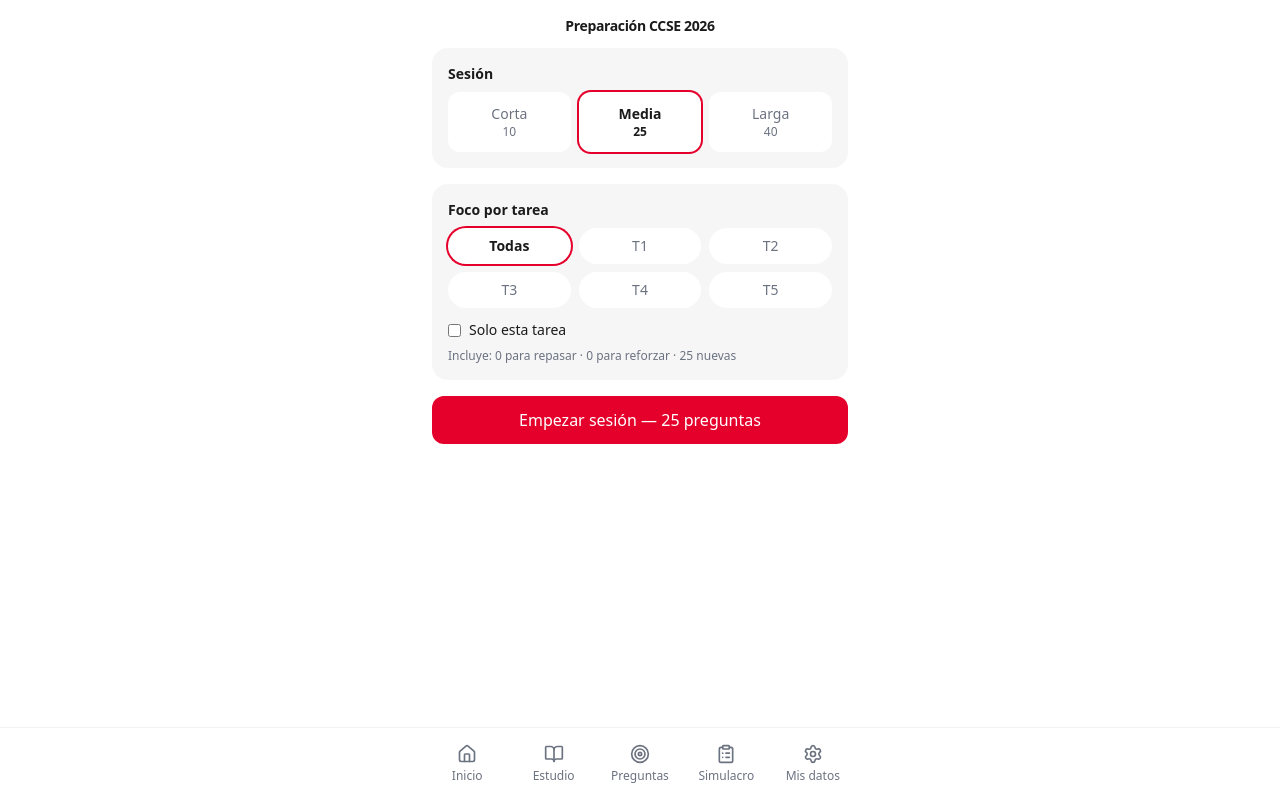
Test: UI: study flow › can start a short session and answer one question
Step 1. Click the text "Corta" → x=509, y=114, box 491,104 -> 527,123
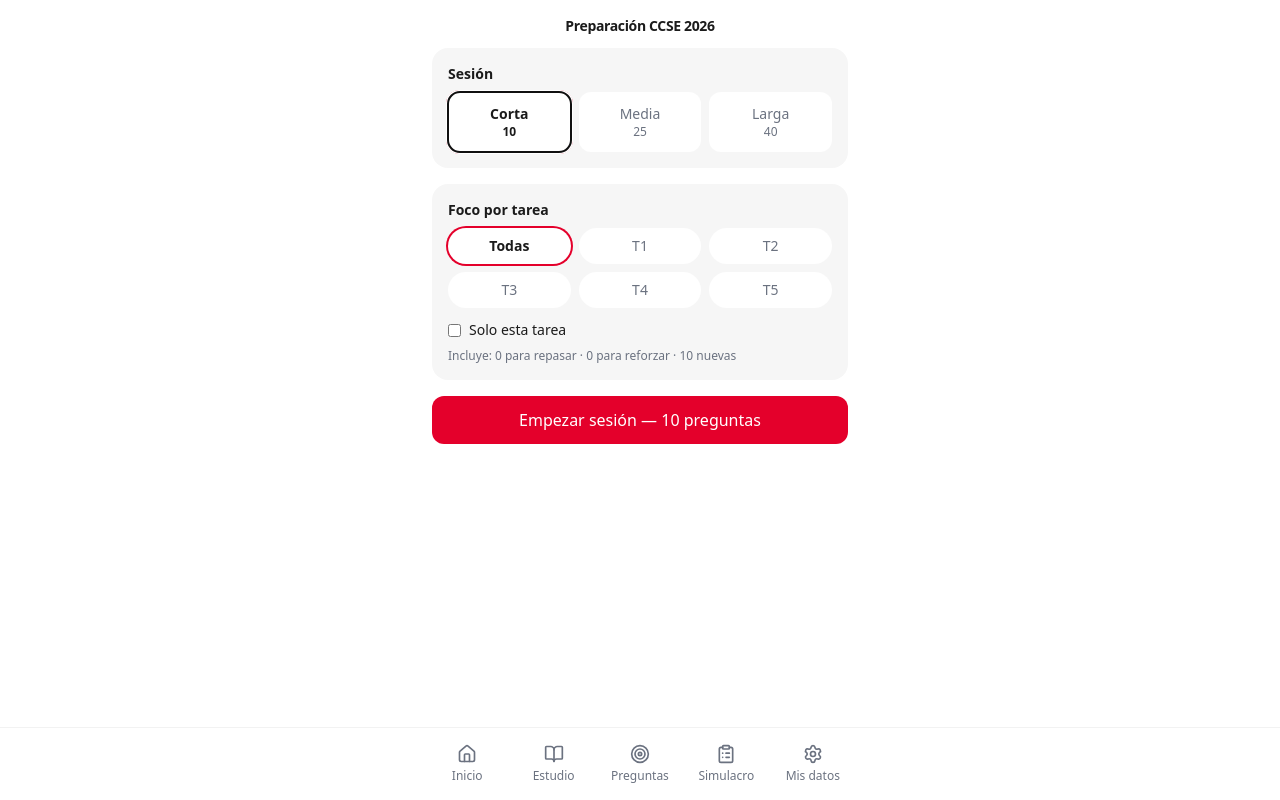
Step 2. Click the button "Empezar sesión — 10 preguntas" → x=640, y=420, box 432,396 -> 848,444
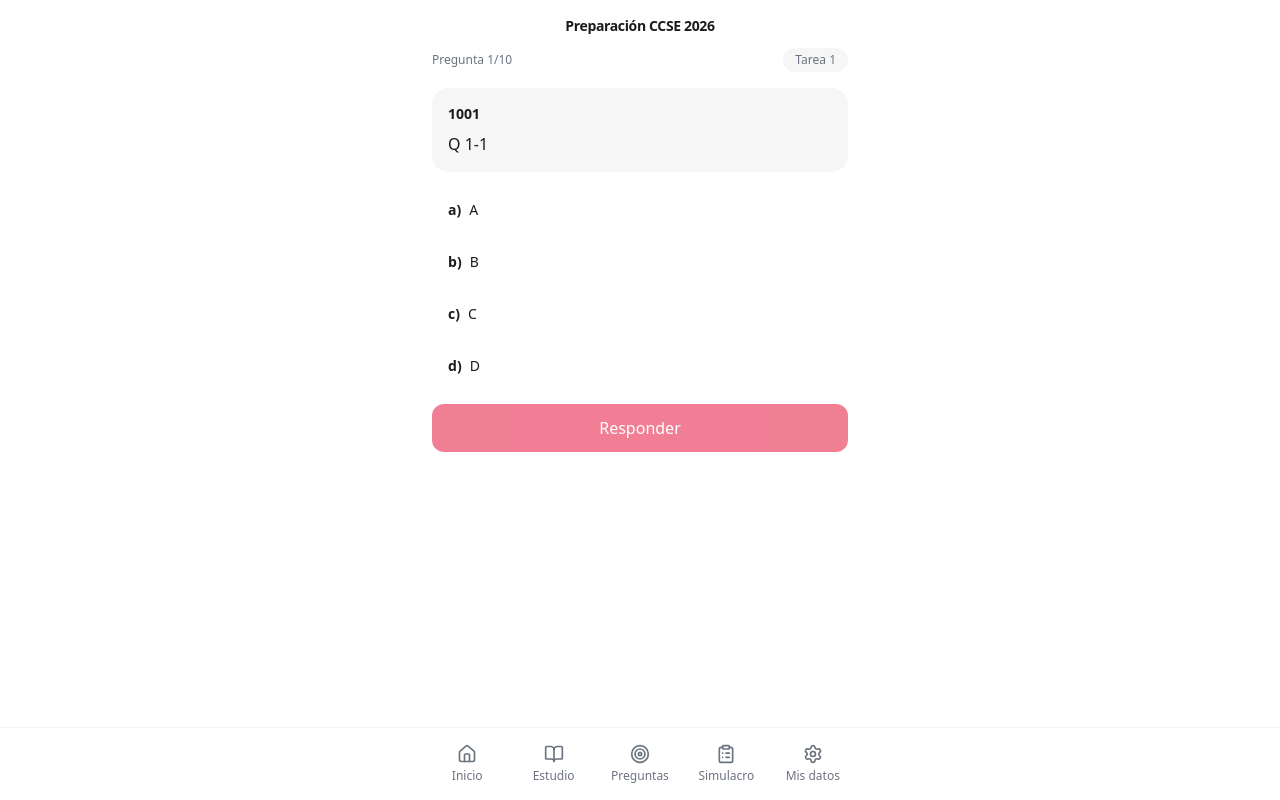
Result: the text "Pregunta 1/10" is shown at 432,52 -> 512,68
Note: pick option a) then respond
Step 3. Click the text "a)" → x=455, y=210, box 448,200 -> 461,219
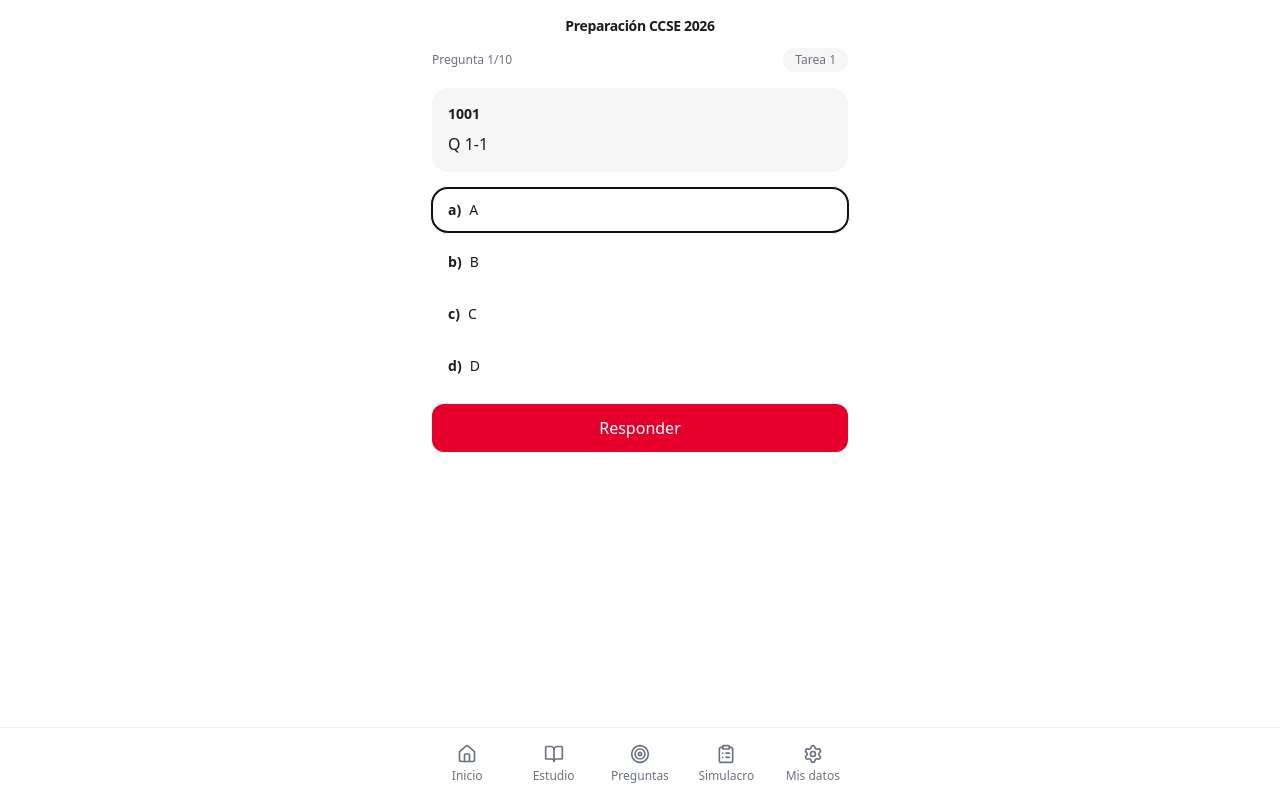
Step 4. Click the button "Responder" → x=640, y=428, box 432,404 -> 848,452
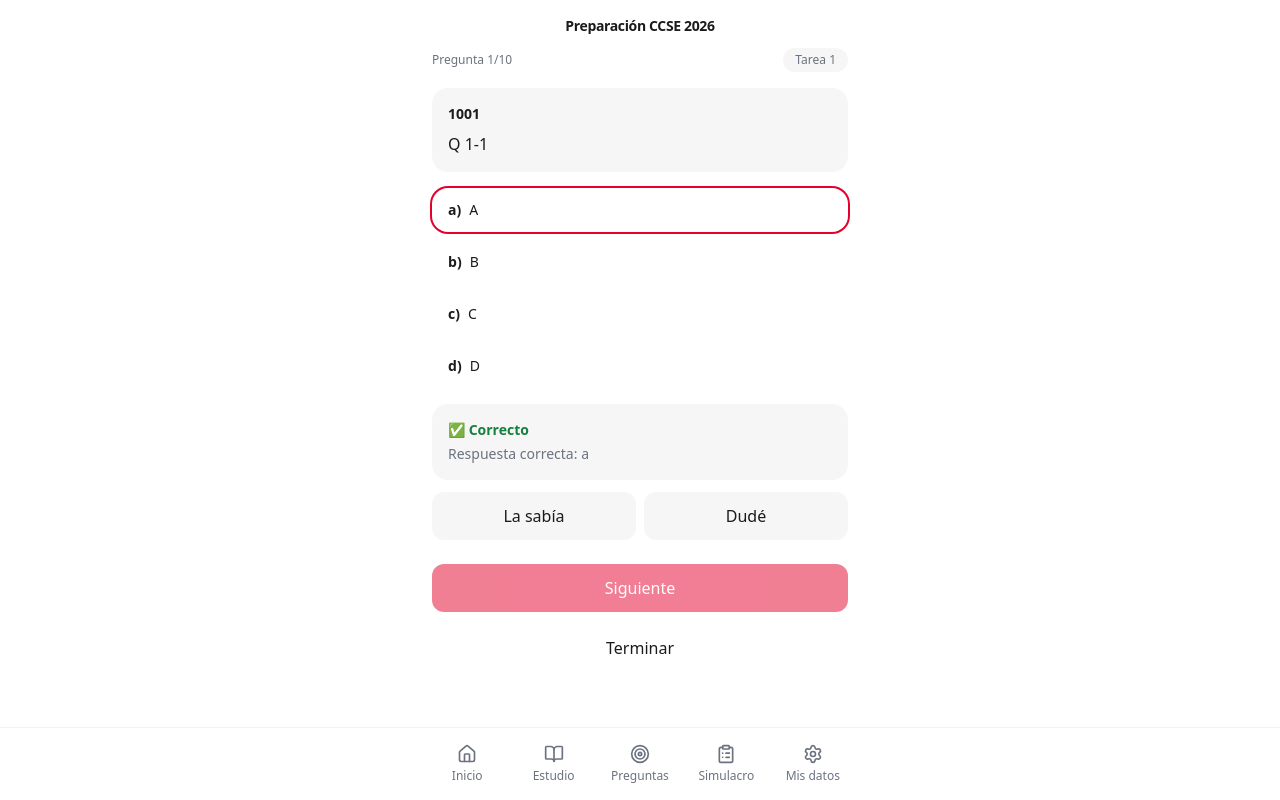
Result: the text "Respuesta correcta: a" is shown at 448,444 -> 589,463
Result: the button "Siguiente" is disabled at 432,564 -> 848,612
Step 5. Click the button "La sabía" → x=534, y=516, box 432,492 -> 636,540
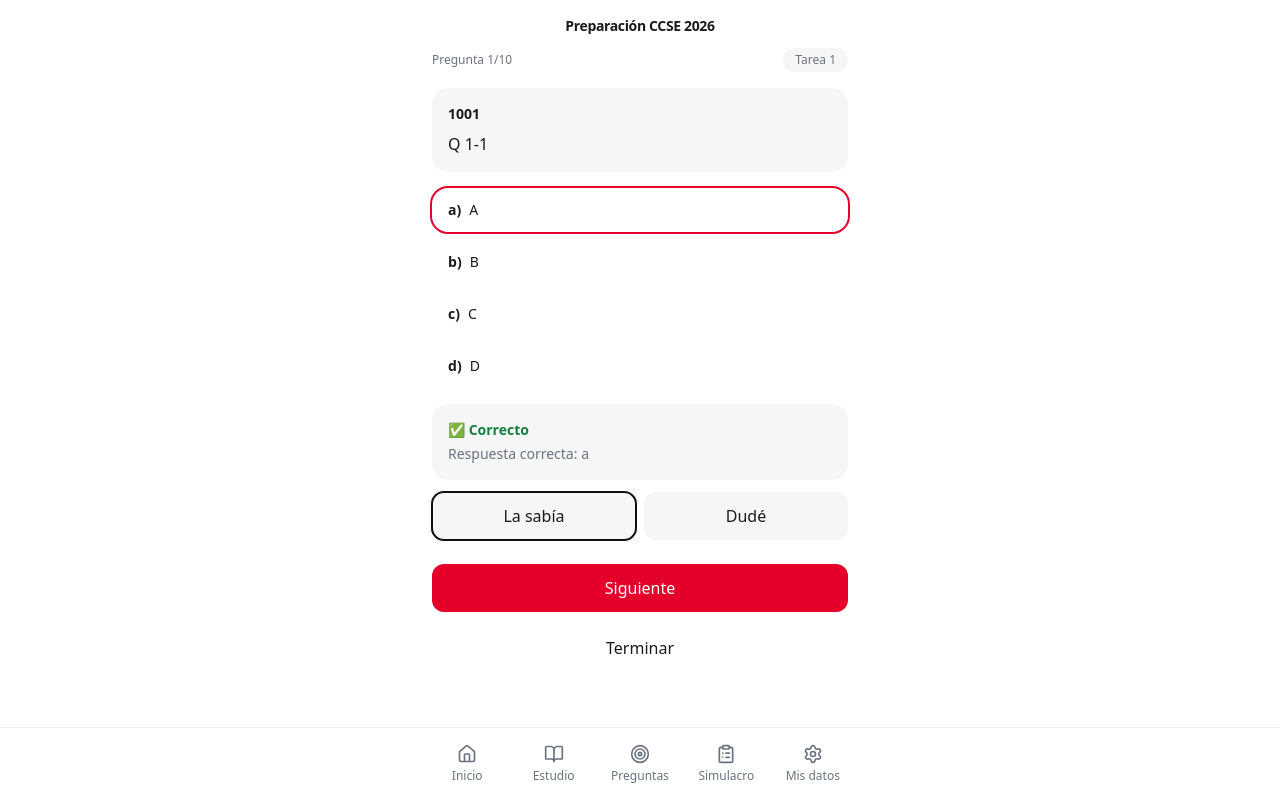
Result: the button "Siguiente" is enabled at 432,564 -> 848,612
